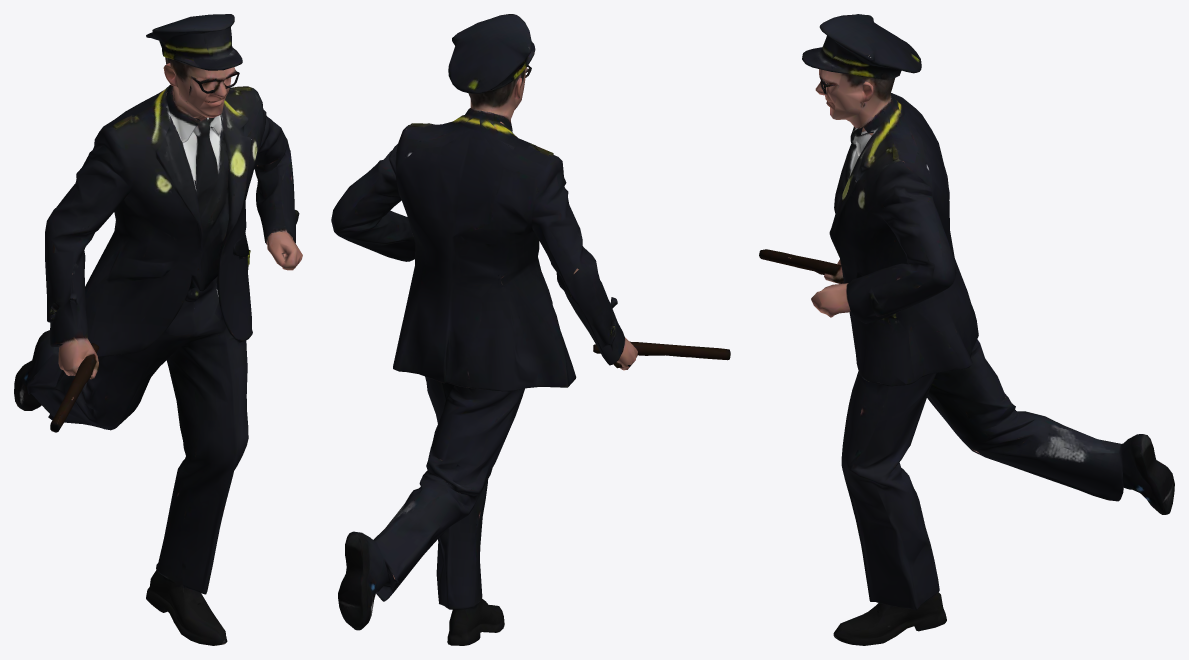
Rendered from police.glb.
3 views of the same model, side by side, from view 1: azimuth 30°, elevation 25°; view 2: azimuth 150°, elevation 25°; view 3: azimuth 270°, elevation 25° (orthographic). The views are drawn at different scales.
Parts seen in each view (by area): view 1: world; view 2: world; view 3: world.
Part boxes in pixels (x1,y1,x2,y2): world: [14, 14, 302, 645]; world: [331, 14, 730, 645]; world: [759, 14, 1174, 645].
Size of the model in its own units: 0.5442 by 1 by 0.6191.
1 material, 1 textured.
